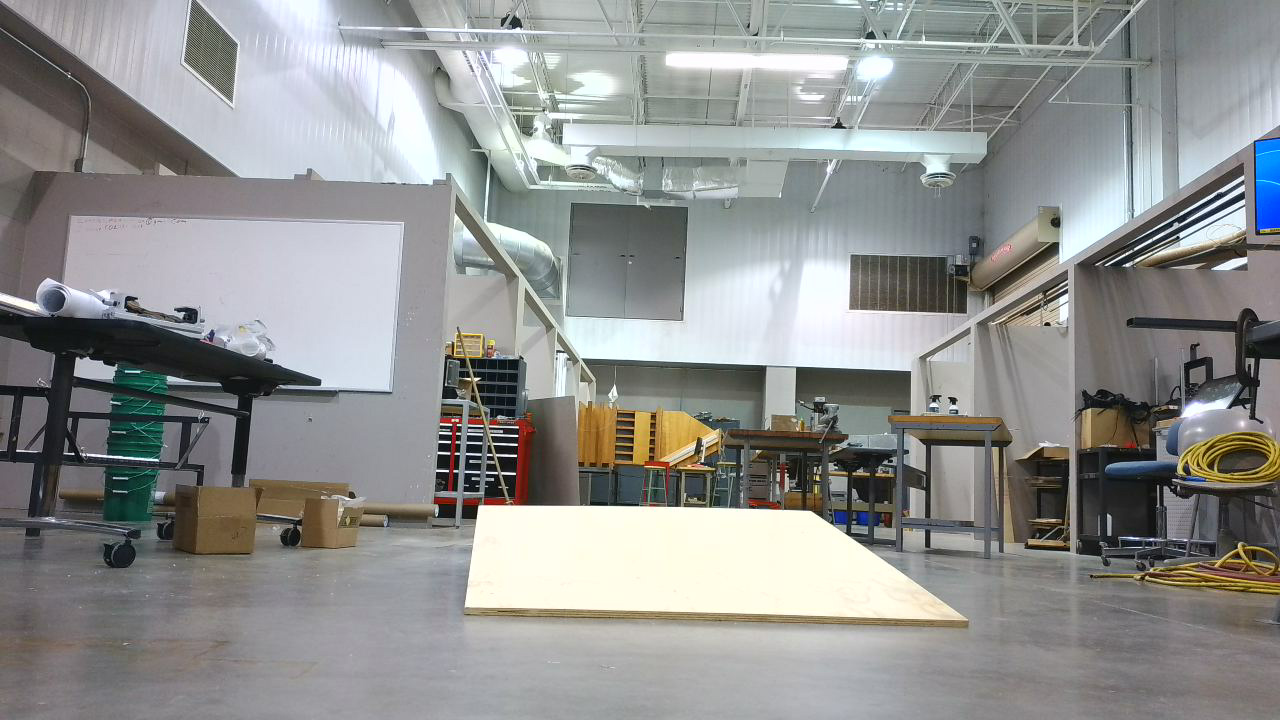ramp: (465, 504, 979, 638)
